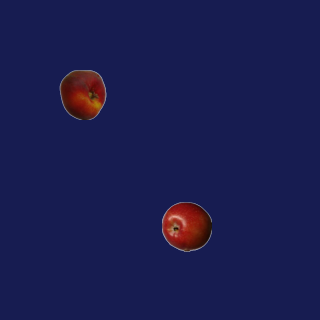Apple Braeburn: (161, 201, 211, 251)
Nectarine Flat: (57, 69, 107, 119)
